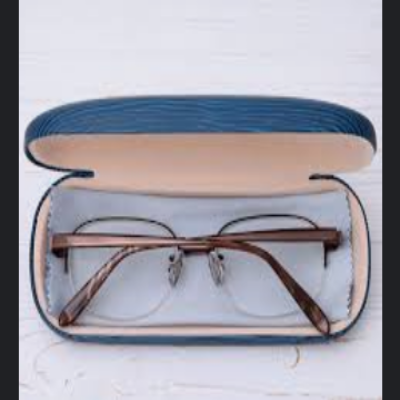glasses: (48, 192, 359, 339)
